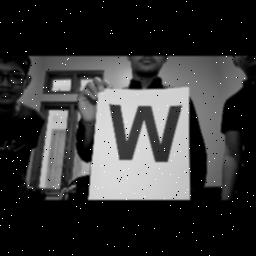w: (103, 98, 187, 166)
